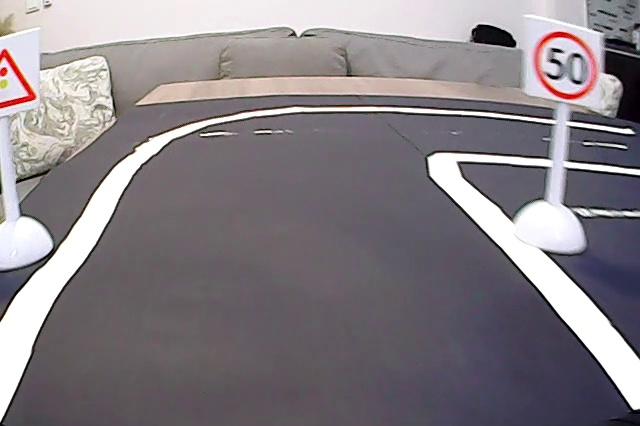red light: (1, 37, 38, 110)
speed limit 50: (527, 18, 600, 104)
